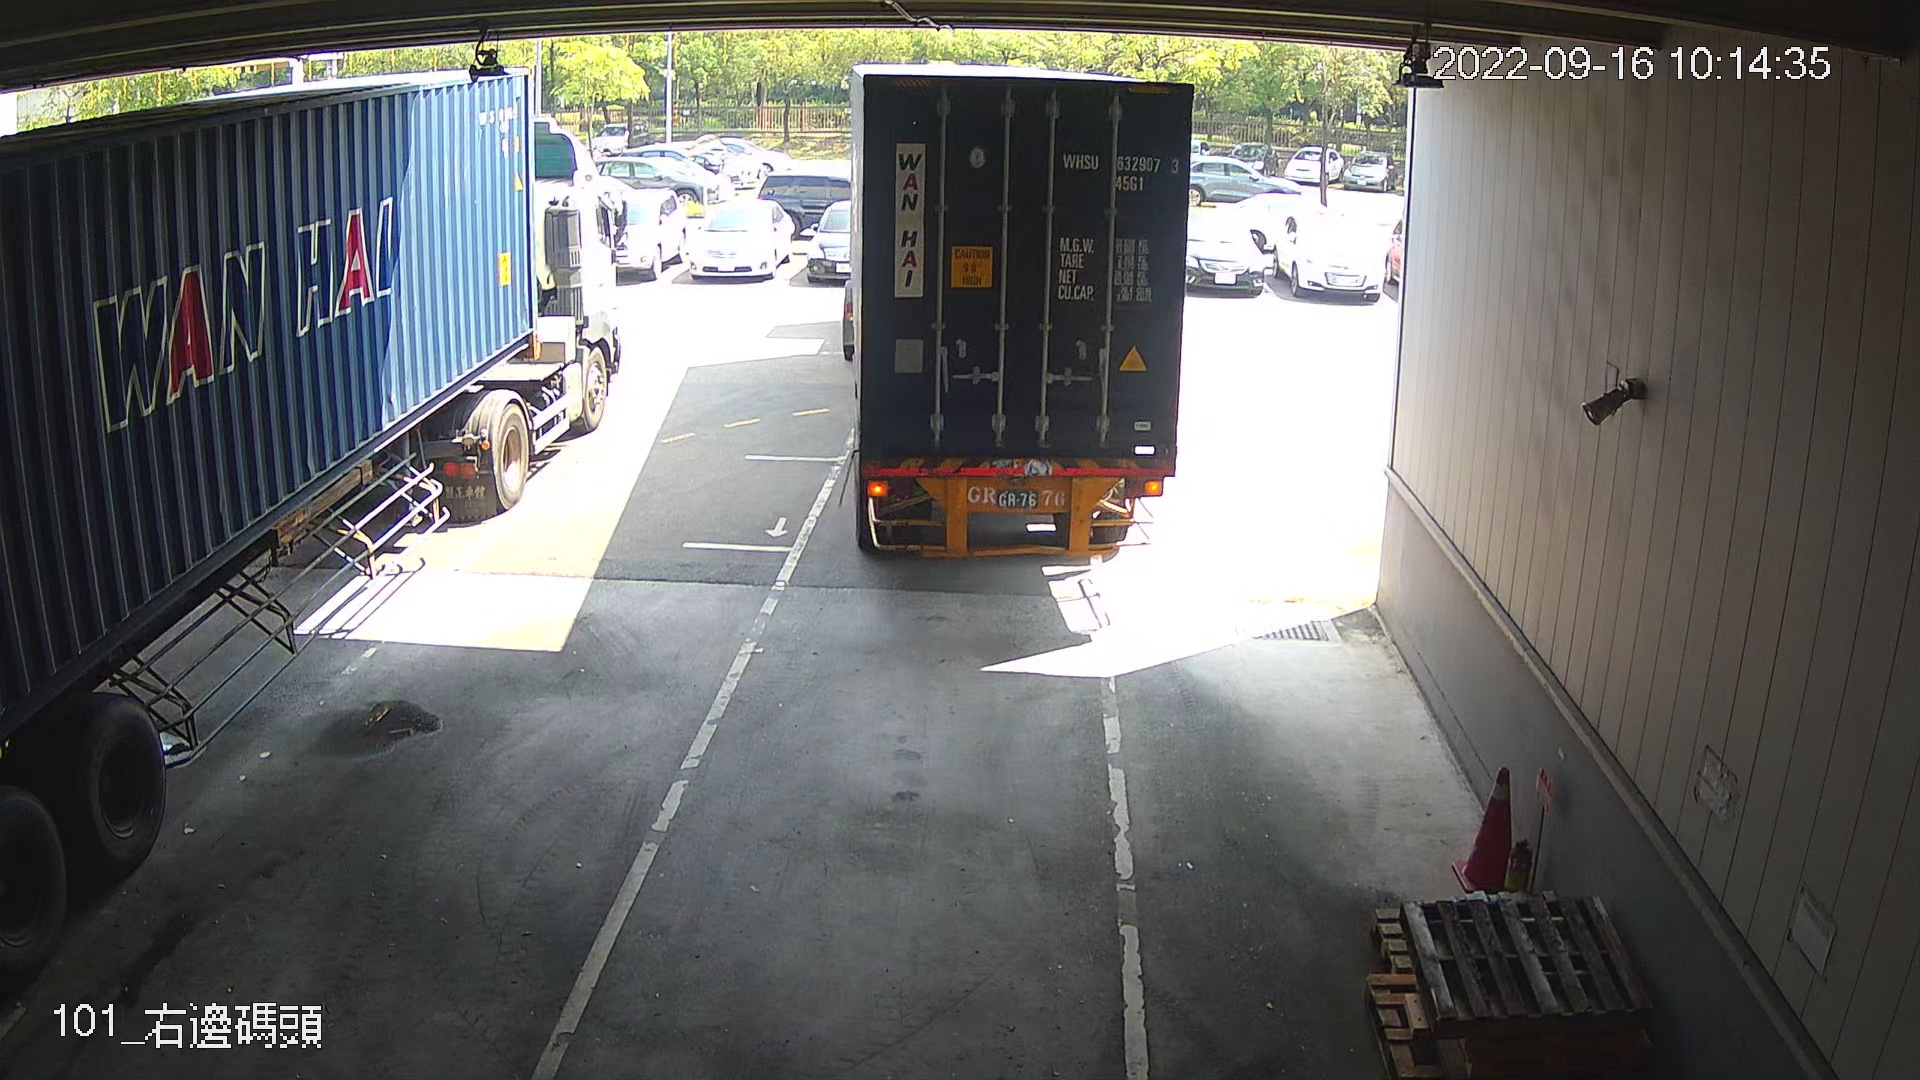container: (1059, 146, 1188, 199)
